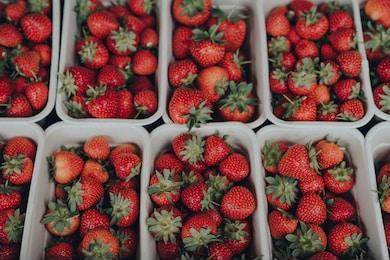Fresa: (275, 142, 318, 185), (168, 82, 210, 125), (209, 10, 249, 53), (64, 175, 107, 213), (219, 82, 257, 123), (47, 148, 87, 185), (181, 211, 218, 249), (81, 83, 120, 119), (80, 226, 120, 260), (326, 221, 364, 256), (294, 188, 328, 227), (220, 184, 255, 221), (190, 30, 225, 67), (200, 130, 233, 168), (197, 63, 228, 103), (149, 204, 183, 240), (62, 61, 96, 97), (149, 169, 182, 206), (180, 179, 214, 213), (76, 35, 110, 69), (218, 148, 250, 184), (109, 186, 137, 227), (9, 48, 43, 80), (296, 8, 328, 42), (171, 133, 203, 166), (314, 136, 345, 170), (85, 7, 120, 37), (283, 95, 319, 124), (267, 207, 298, 240), (286, 64, 317, 97), (108, 151, 141, 180), (3, 153, 33, 184), (106, 27, 137, 57), (168, 57, 199, 87), (131, 45, 158, 79), (325, 164, 355, 194), (337, 48, 365, 79), (23, 78, 48, 112), (268, 5, 293, 39), (334, 73, 362, 102), (315, 58, 345, 85), (326, 26, 357, 49), (133, 87, 159, 114), (339, 95, 365, 122), (272, 49, 297, 70)
